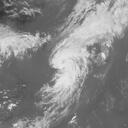cyclone: (48, 34, 89, 80)
